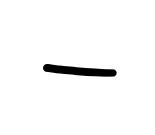minus: (43, 64, 117, 77)
